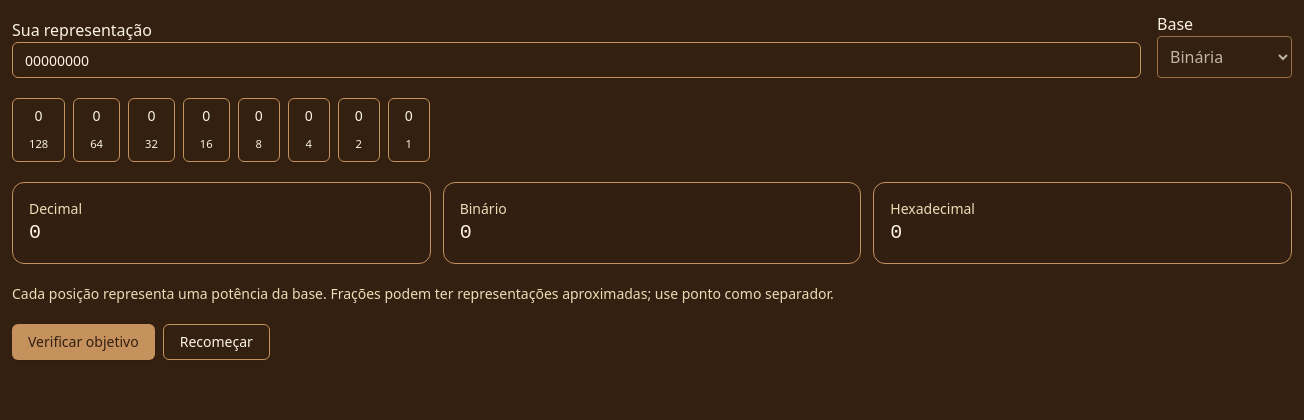
Student practice controls › lets students construct a byte and check the guided conversion
What coordinates should you click on to do the following:
click the button "0 32"
I would click on:
 (151, 130)
Its box is x1=128 y1=98 x2=175 y2=162.
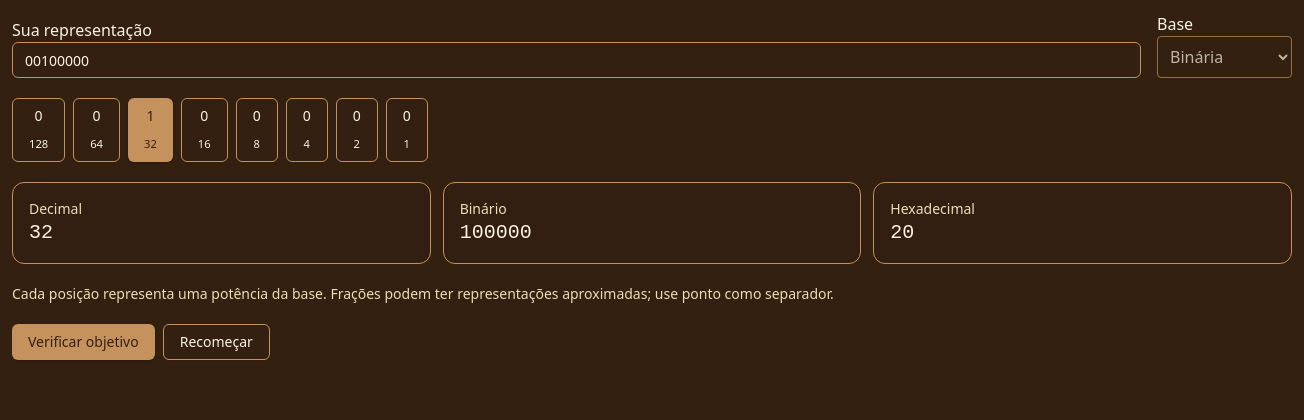
What coordinates should you click on to do the following:
click the button "0 8"
I would click on:
 (257, 130)
Its box is x1=236 y1=98 x2=278 y2=162.
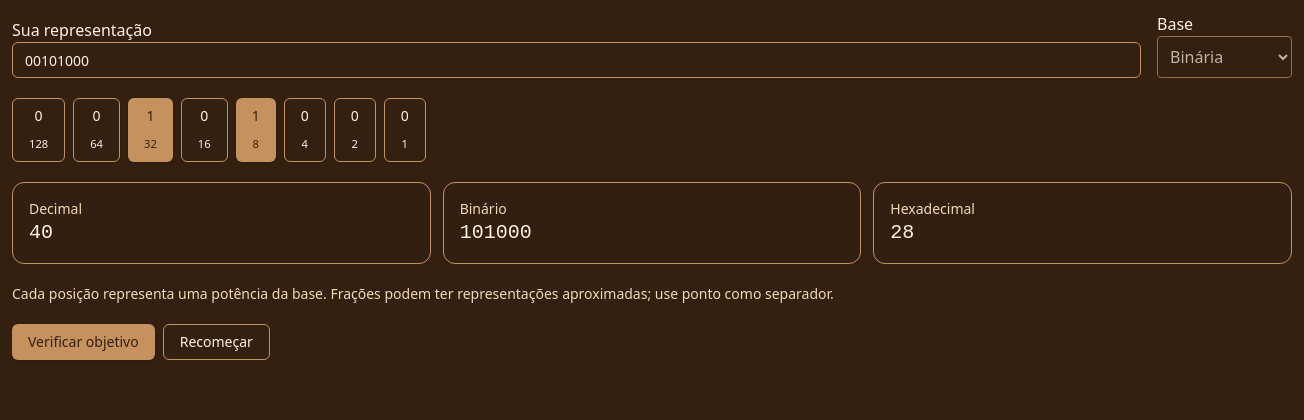
What coordinates should you click on to do the following:
click the button "0 4"
I would click on:
 (305, 130)
Its box is x1=284 y1=98 x2=326 y2=162.
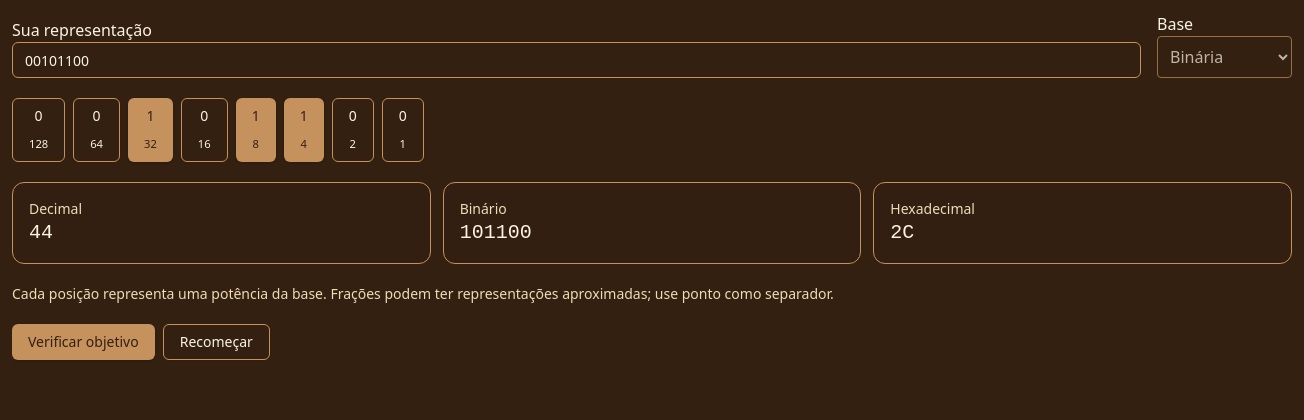
What coordinates should you click on to do the following:
click the button "0 1"
I would click on:
 (403, 130)
Its box is x1=382 y1=98 x2=424 y2=162.
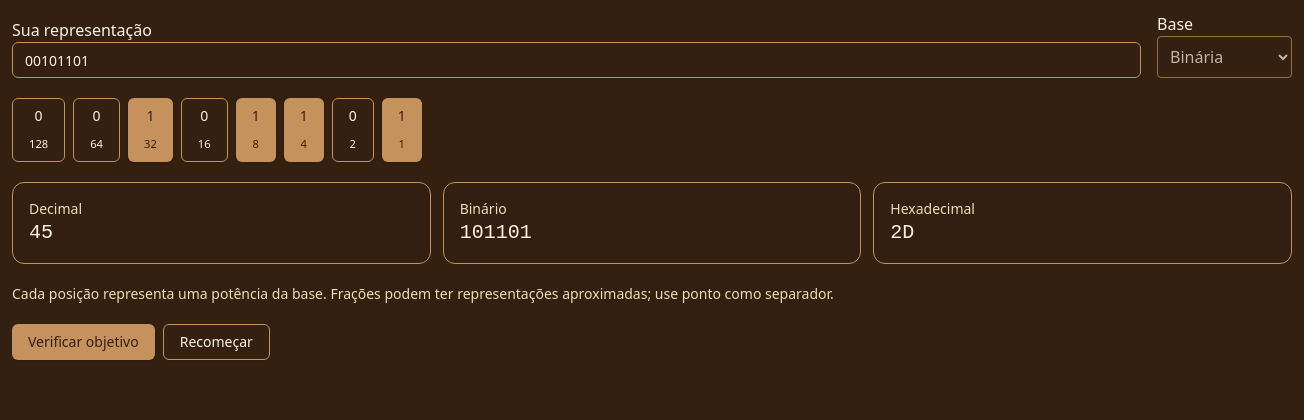
expect the field named "Valor" holds "00101101": met, box x1=12 y1=42 x2=1141 y2=78
What coordinates should you click on to do the following:
click the button "Verificar objetivo"
I would click on:
 (83, 342)
Its box is x1=12 y1=324 x2=155 y2=360.
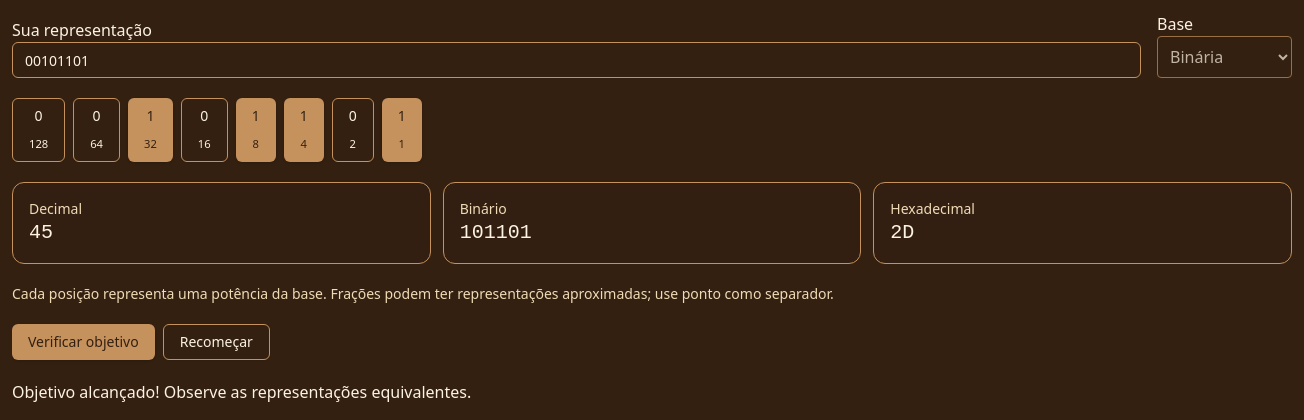
expect the message shows "Objetivo alcançado": met, box x1=12 y1=381 x2=471 y2=403
What coordinates should you click on to do the following:
click the button "Recomeçar"
I would click on:
 (216, 342)
Its box is x1=163 y1=324 x2=270 y2=360.
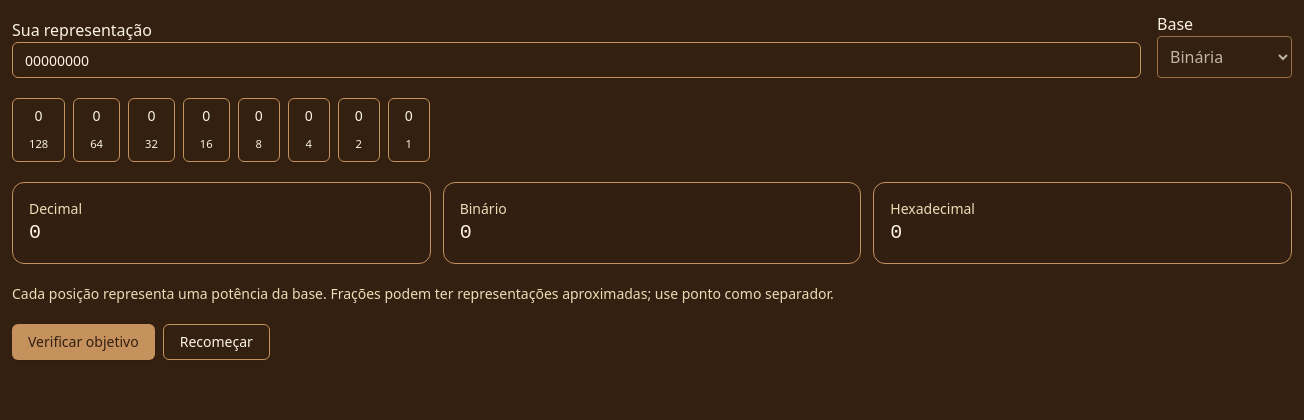
expect the field named "Valor" holds "00000000": met, box x1=12 y1=42 x2=1141 y2=78
